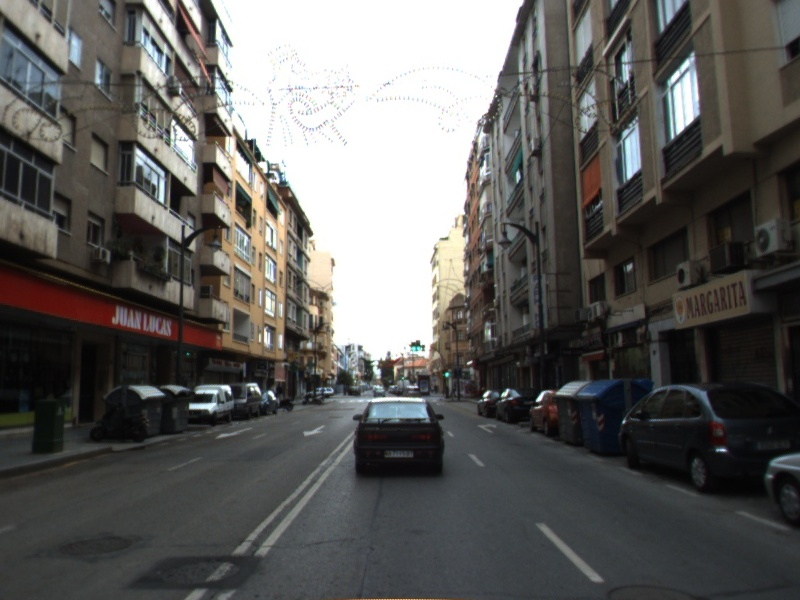RIGHT: (476, 421, 498, 435)
